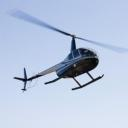helicopter: (14, 14, 105, 94)
